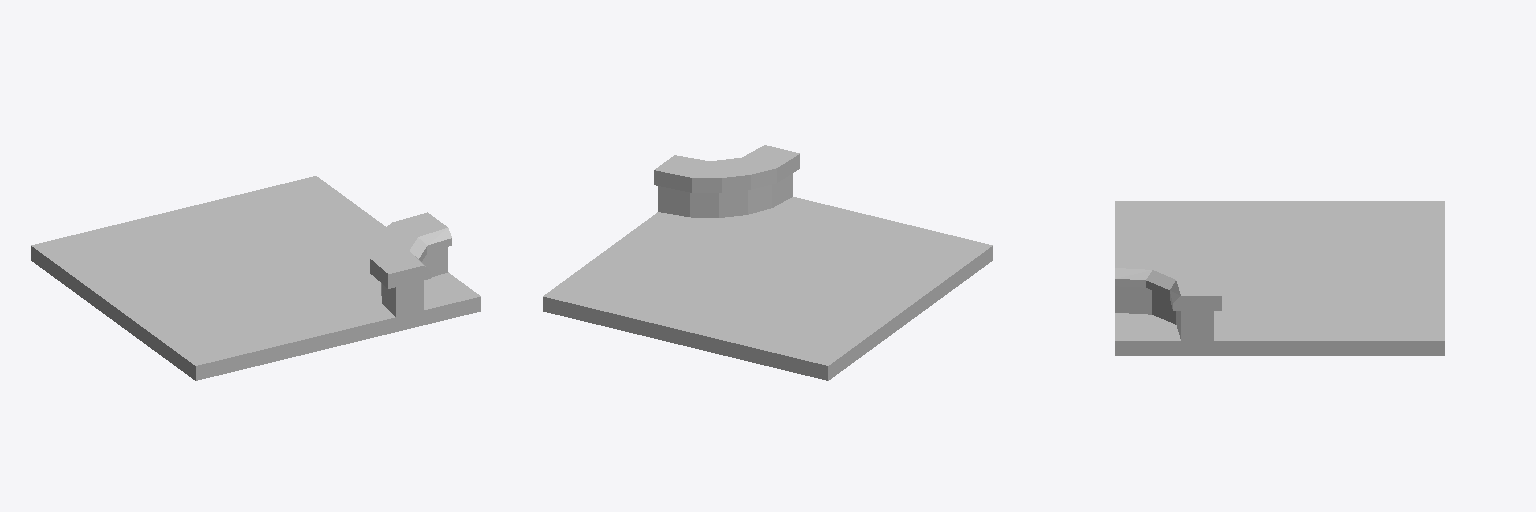
Rendered from park_wall_innerCorner.obj.
3 views of the same model, side by side, from view 1: azimuth 30°, elevation 25°; view 2: azimuth 150°, elevation 25°; view 3: azimuth 270°, elevation 25° (orthographic).
Visible parts, largest first — view 1: park_wall_innerCorner_Cube.14199; view 2: park_wall_innerCorner_Cube.14199; view 3: park_wall_innerCorner_Cube.14199.
Part boxes in pixels (bbox=[...]): park_wall_innerCorner_Cube.14199: bbox=[31, 176, 480, 380]; park_wall_innerCorner_Cube.14199: bbox=[543, 145, 992, 380]; park_wall_innerCorner_Cube.14199: bbox=[1115, 201, 1444, 355].
Bounding box in the file's own units: 2 × 0.4 × 2.